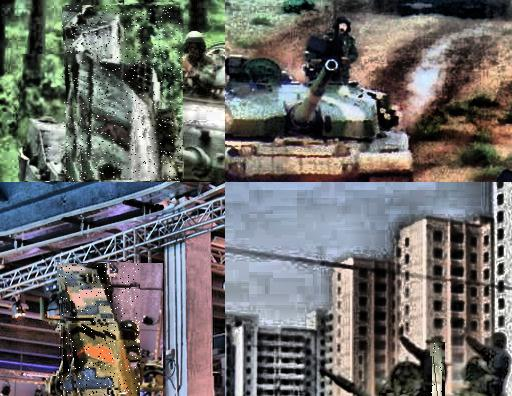tanks: (226, 57, 414, 183), (63, 6, 184, 182), (59, 265, 140, 396), (432, 343, 442, 396)
